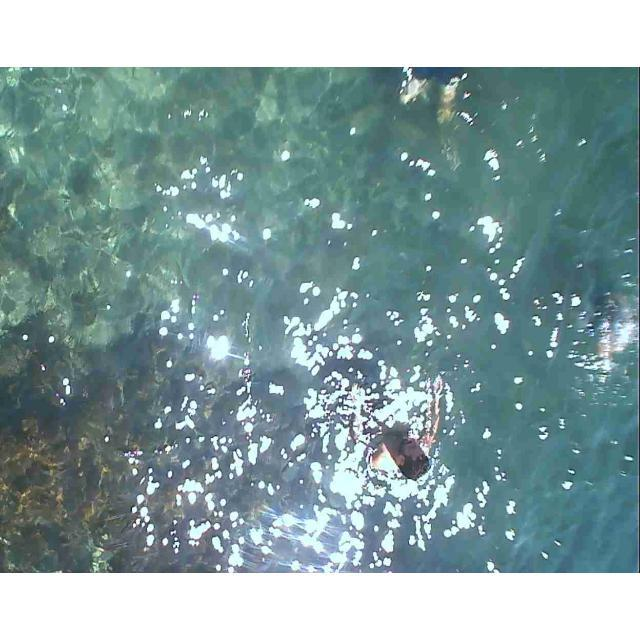human: (345, 390, 451, 520), (389, 67, 509, 142)
